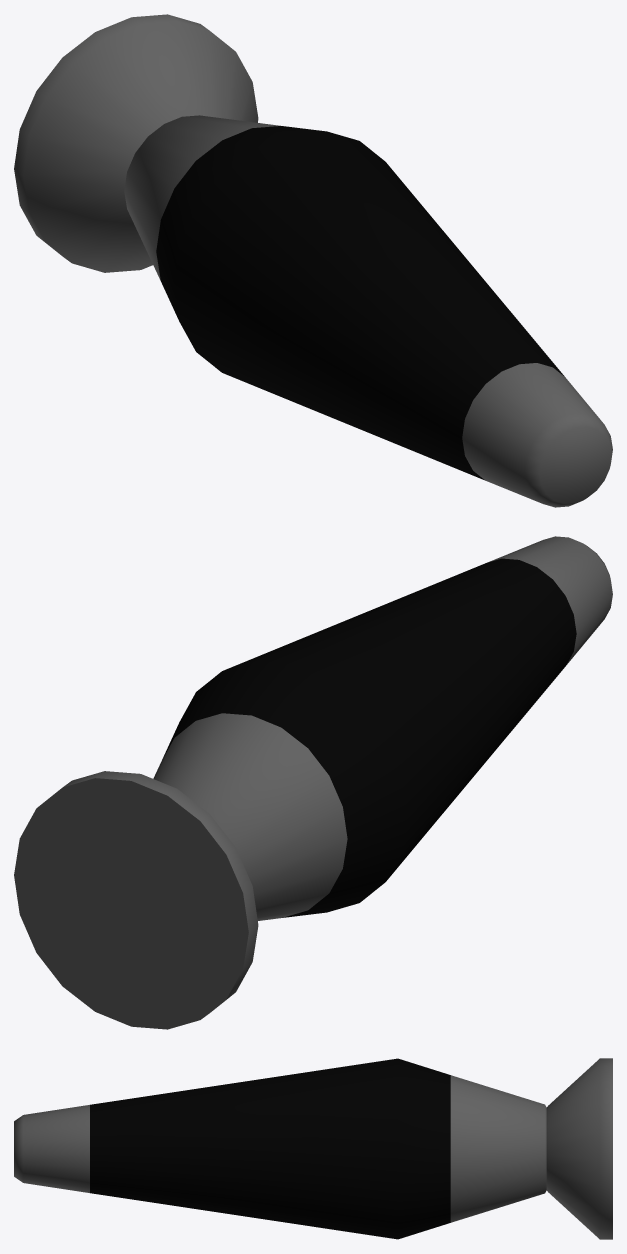
File: nt_2020_lava_lamp_01_LOD0.obj
3 renders of one model, top to bottom at view 1: azimuth 30°, elevation 25°; view 2: azimuth 150°, elevation 25°; view 3: azimuth 270°, elevation 25°, orthographic. The views are drawn at different scales.
Visible parts, largest first — view 1: mtl_nt_2020_lava_lamp_01, mtl_nt_2020_lava_lamp_01_chrome; view 2: mtl_nt_2020_lava_lamp_01_chrome, mtl_nt_2020_lava_lamp_01; view 3: mtl_nt_2020_lava_lamp_01, mtl_nt_2020_lava_lamp_01_chrome.
Boxes of the visible parts, x1,y1,x2,y2 form: mtl_nt_2020_lava_lamp_01: (156, 126, 564, 480); mtl_nt_2020_lava_lamp_01_chrome: (14, 14, 612, 507); mtl_nt_2020_lava_lamp_01_chrome: (14, 536, 612, 1029); mtl_nt_2020_lava_lamp_01: (162, 558, 576, 917); mtl_nt_2020_lava_lamp_01: (90, 1058, 450, 1239); mtl_nt_2020_lava_lamp_01_chrome: (14, 1058, 612, 1239).
Bounding box in the file's own units: 17.96 × 17.96 × 58.85.
